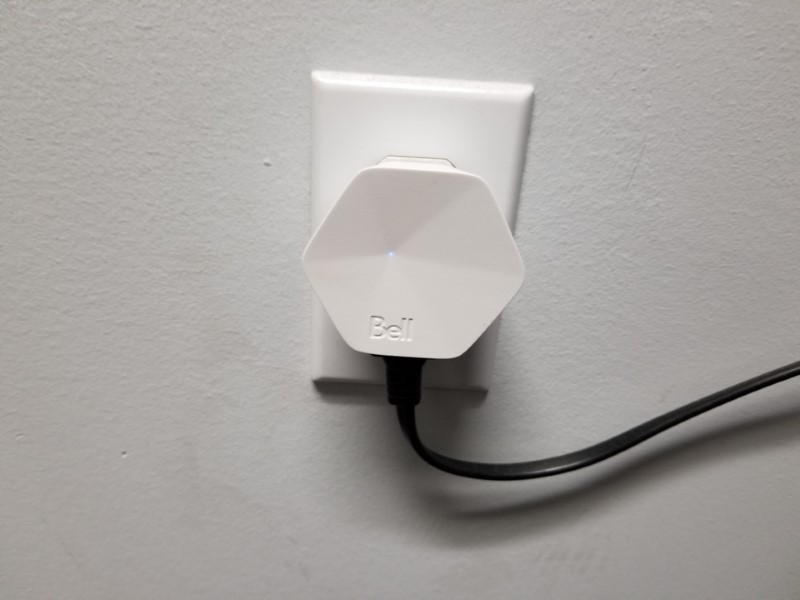pod: (301, 154, 532, 363)
